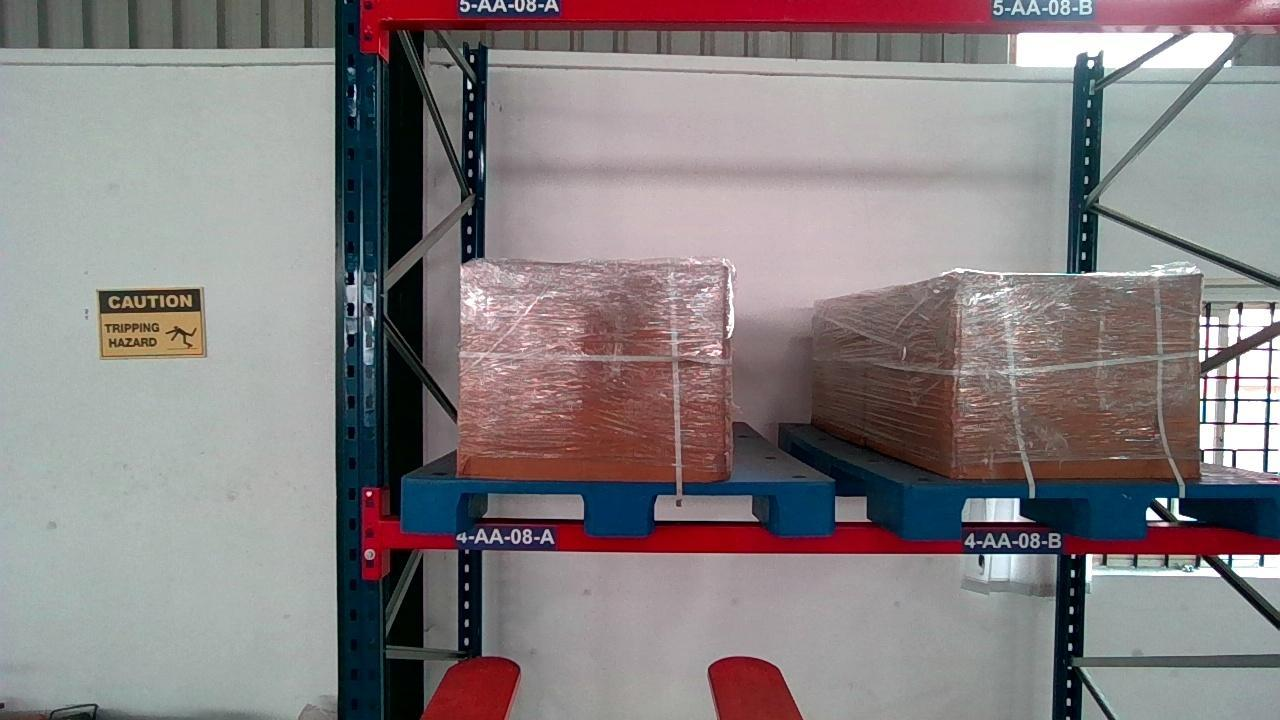h_rack: (380, 519, 1279, 554), (384, 0, 1277, 23)
small_pallet: (399, 480, 835, 535), (907, 484, 1278, 537)
